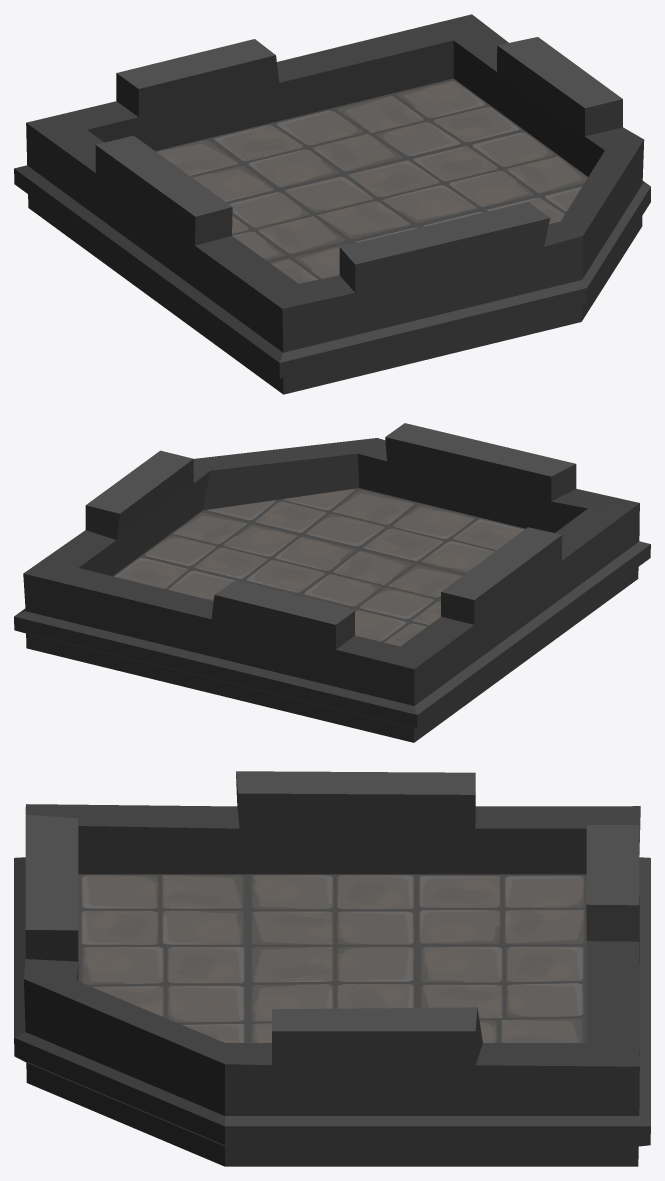
Rendered from RoofTop_D06.fbx.
3 renders of one model, top to bottom at view 1: azimuth 30°, elevation 25°; view 2: azimuth 150°, elevation 25°; view 3: azimuth 270°, elevation 25°, orthographic. The views are drawn at different scales.
Visible parts, largest first — view 1: RoofTop_D06; view 2: RoofTop_D06; view 3: RoofTop_D06.
Boxes of the visible parts, x1,y1,x2,y2 form: RoofTop_D06: (14, 14, 650, 394); RoofTop_D06: (14, 423, 650, 742); RoofTop_D06: (14, 771, 650, 1166).
Size of the model in its own units: 638 by 152 by 639.
